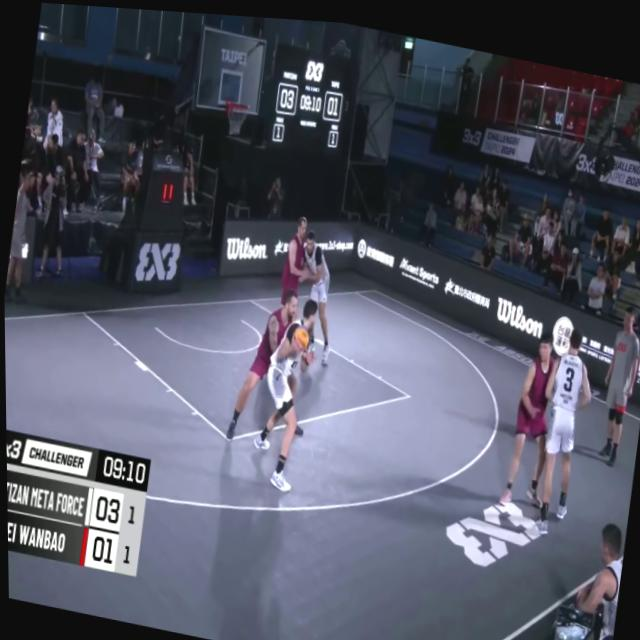ball: (287, 322, 308, 357)
hoop: (221, 91, 251, 136)
player: (222, 270, 325, 455), (243, 286, 324, 496), (524, 317, 597, 530), (495, 319, 565, 512), (560, 513, 626, 640), (286, 223, 345, 362), (275, 214, 315, 311)
